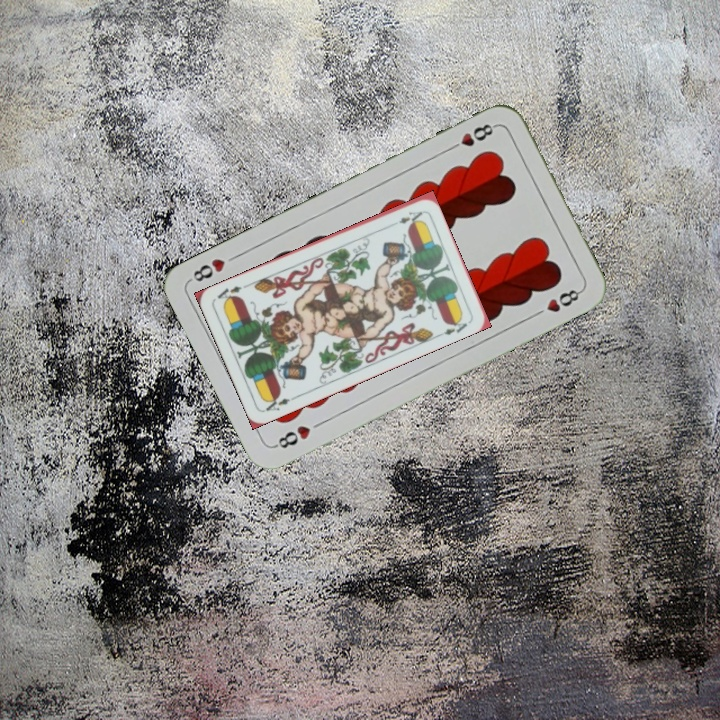EA: (261, 391, 299, 414), (395, 207, 425, 226)
H8: (444, 119, 499, 154), (270, 421, 314, 451)
